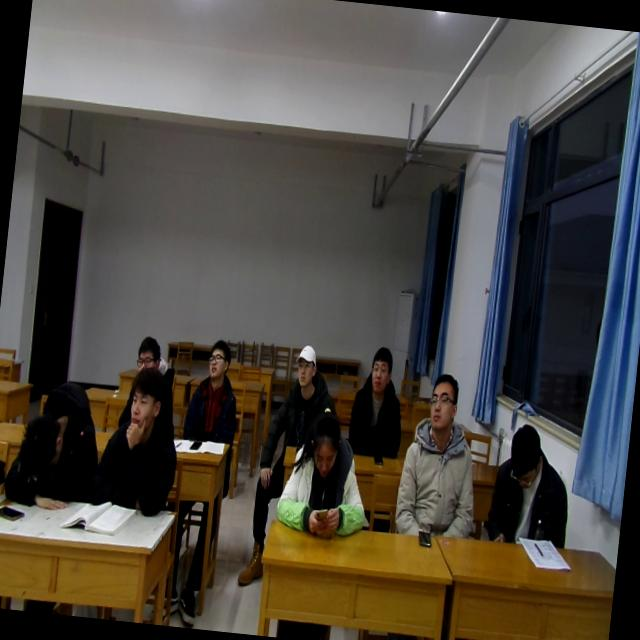bow: (0, 370, 106, 510)
down: (301, 404, 347, 488), (502, 418, 548, 494)
lookup: (123, 361, 168, 442), (422, 362, 466, 434), (364, 339, 396, 402), (288, 339, 324, 393), (130, 330, 166, 378), (201, 336, 233, 386)
sit: (390, 366, 490, 546), (82, 366, 190, 517), (273, 396, 379, 540), (482, 415, 578, 551), (265, 340, 340, 448), (344, 344, 412, 462), (177, 336, 246, 446), (122, 328, 177, 396)
